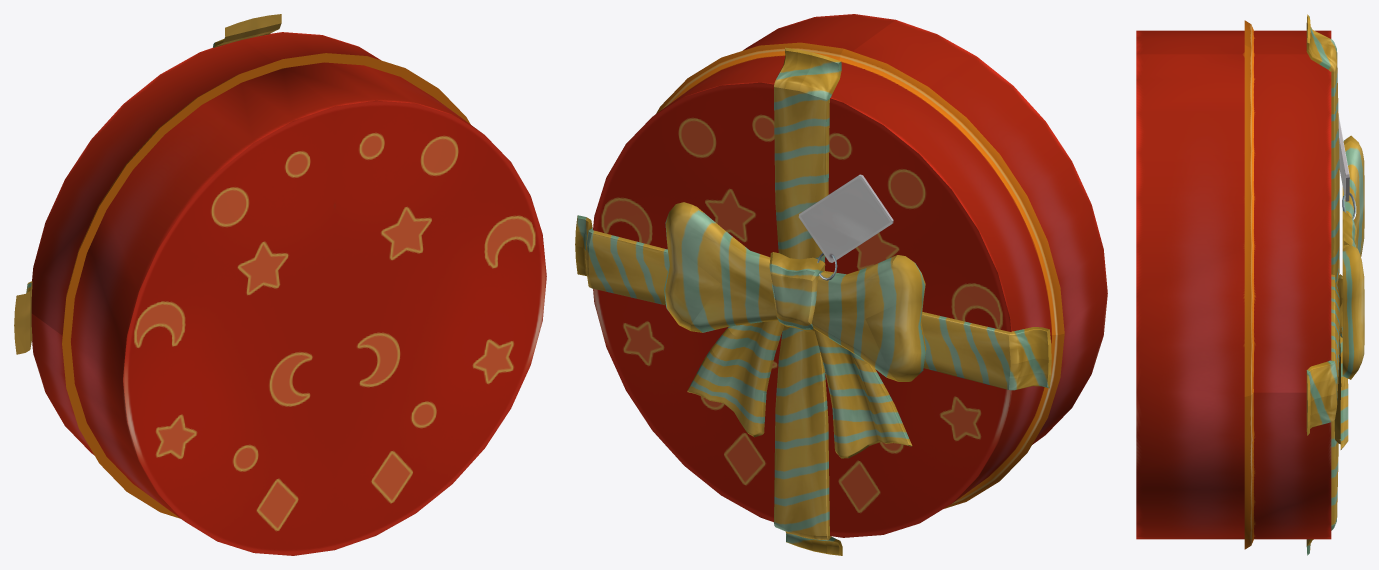
Rendered from JewelryBox02_piece.fbx.
The picture shows the model from 3 angles, left to right: view 1: azimuth 30°, elevation 25°; view 2: azimuth 150°, elevation 25°; view 3: azimuth 270°, elevation 25°; orthographic projection. The views are drawn at different scales.
Visible parts, largest first — view 1: polySurface504, polySurface505, polySurface518, polySurface517, polySurface520, polySurface514, polySurface515; view 2: polySurface518, polySurface528, polySurface520, polySurface517, polySurface504, polySurface519, polySurface516, polySurface514, polySurface515, polySurface513, polySurface529, polySurface505; view 3: polySurface505, polySurface520, polySurface519, polySurface528, polySurface514, polySurface504, polySurface513, polySurface518, polySurface516, polySurface529.
Boxes of the visible parts, x1,y1,x2,y2 form: polySurface504: [71, 68, 334, 555]; polySurface505: [283, 62, 546, 549]; polySurface518: [31, 39, 282, 343]; polySurface517: [31, 313, 180, 518]; polySurface520: [244, 32, 470, 124]; polySurface514: [213, 14, 281, 47]; polySurface515: [14, 281, 32, 354]; polySurface518: [824, 49, 1064, 334]; polySurface528: [664, 202, 926, 458]; polySurface520: [593, 42, 843, 257]; polySurface517: [825, 333, 1064, 537]; polySurface504: [853, 20, 1107, 444]; polySurface519: [593, 288, 782, 522]; polySurface516: [774, 325, 842, 555]; polySurface514: [774, 47, 841, 262]; polySurface515: [921, 312, 1051, 390]; polySurface513: [575, 215, 669, 305]; polySurface529: [798, 174, 893, 280]; polySurface505: [743, 14, 895, 51]; polySurface505: [1136, 54, 1244, 539]; polySurface520: [1244, 45, 1331, 396]; polySurface519: [1244, 392, 1331, 549]; polySurface528: [1334, 135, 1364, 449]; polySurface514: [1306, 14, 1339, 283]; polySurface504: [1136, 30, 1244, 54]; polySurface513: [1306, 274, 1339, 435]; polySurface518: [1244, 20, 1331, 54]; polySurface516: [1306, 420, 1338, 555]; polySurface529: [1338, 115, 1356, 219].
Size of the model in its own units: 626 by 626 by 250.
